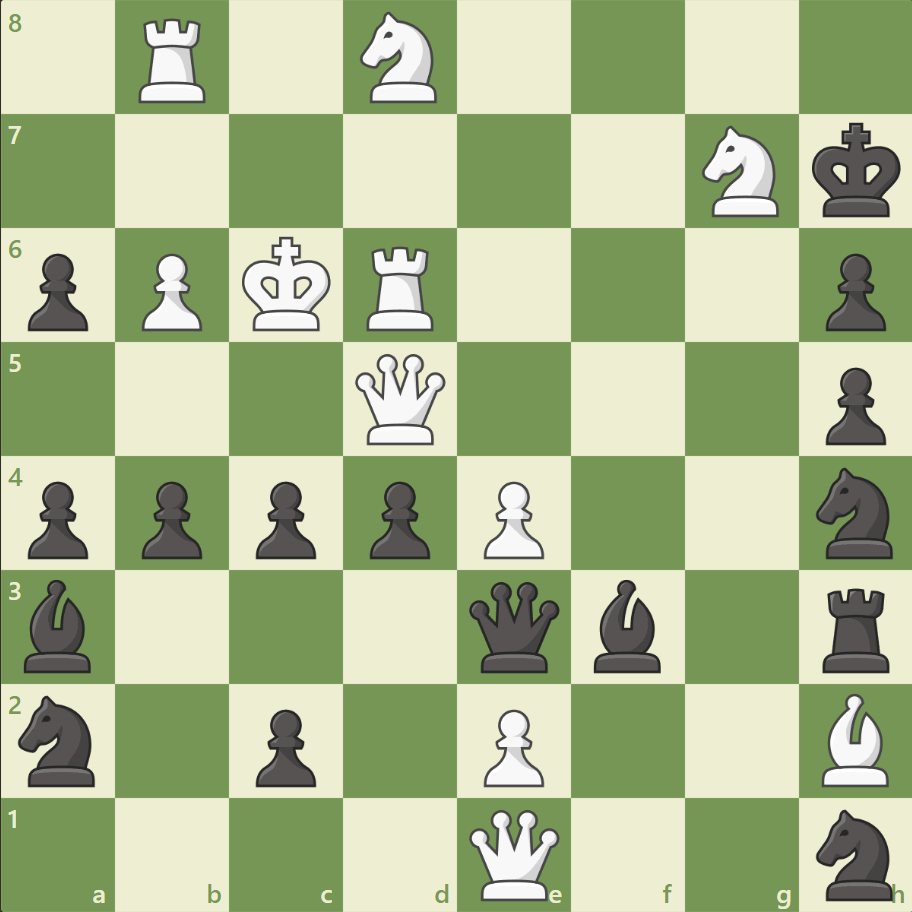B: (812, 687, 896, 790)
K: (238, 231, 338, 339)
N: (351, 7, 449, 110), (692, 121, 789, 223)
P: (133, 246, 208, 337), (474, 473, 549, 564), (474, 700, 549, 791)
Q: (351, 349, 450, 449), (464, 804, 563, 903)
R: (133, 12, 215, 109), (360, 239, 442, 336)
b: (17, 574, 101, 676), (585, 574, 669, 676)
k: (806, 117, 906, 225)
n: (806, 461, 903, 564), (11, 688, 108, 791), (806, 802, 903, 904)
p: (20, 246, 95, 337), (20, 473, 95, 564), (133, 473, 208, 564), (247, 473, 322, 564), (247, 700, 322, 791), (815, 246, 889, 337), (815, 359, 889, 450), (361, 473, 435, 564)
q: (464, 576, 563, 676)
r: (814, 579, 897, 676)
